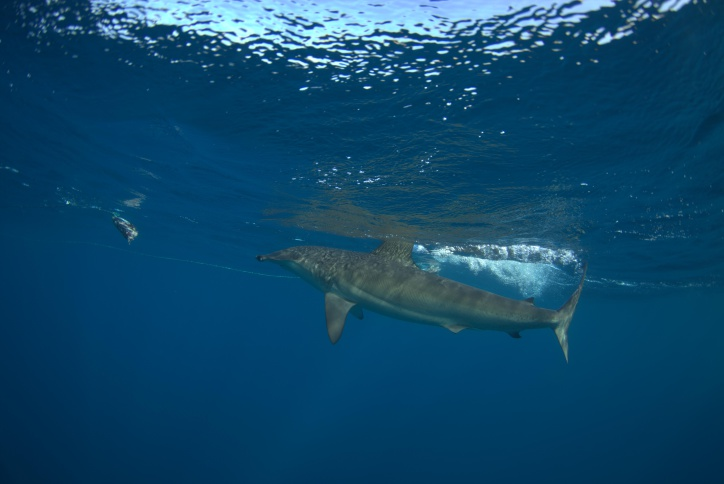Hammer: (242, 204, 596, 381)
